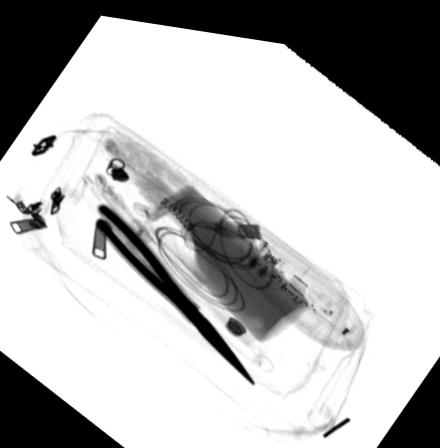Pliers: (93, 200, 257, 380)
